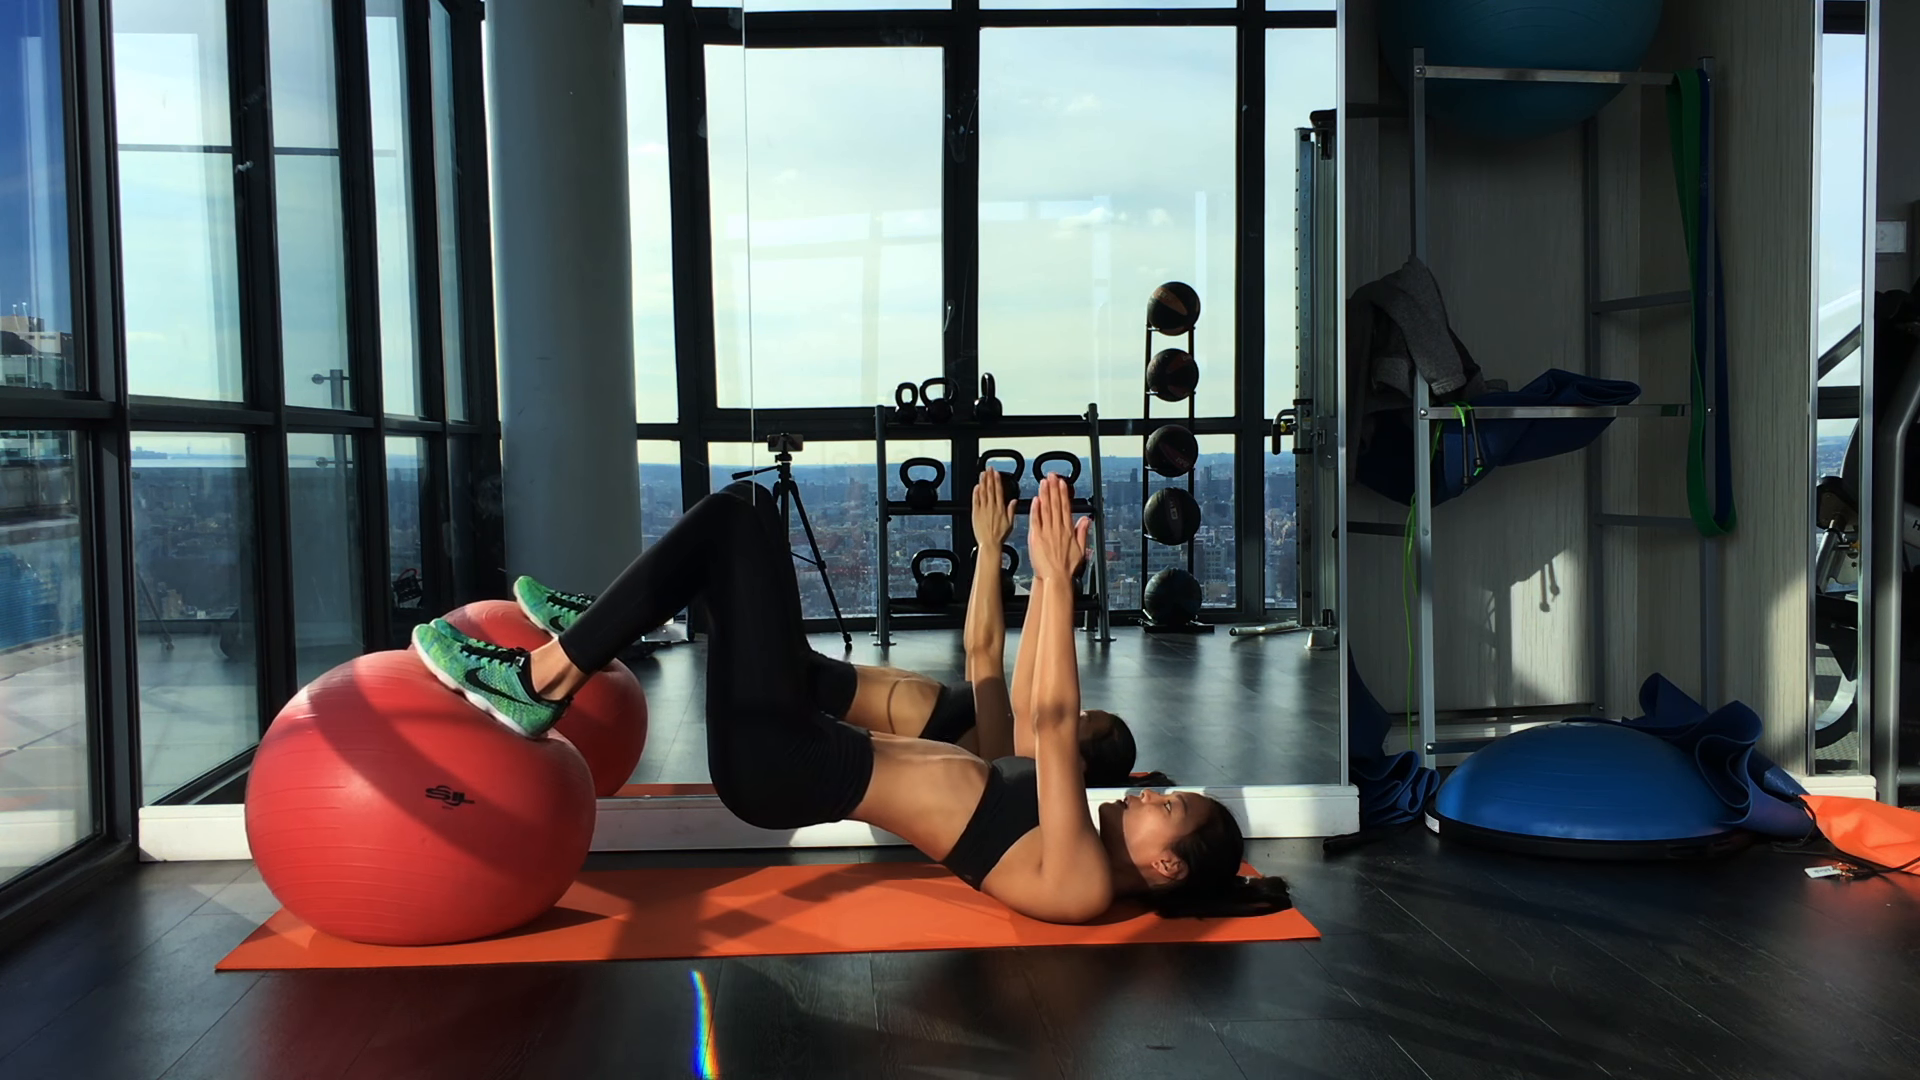yogaball: (235, 638, 600, 943)
